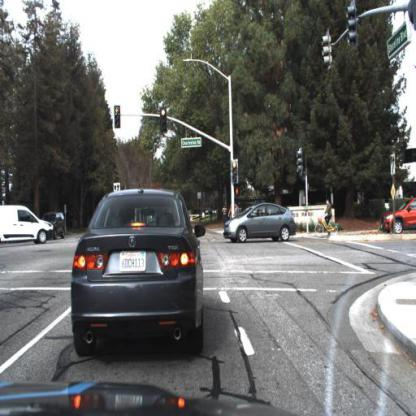biker: (314, 197, 341, 239)
car: (71, 186, 206, 357), (223, 201, 299, 242), (3, 203, 56, 247), (380, 198, 416, 236), (42, 211, 69, 240)
pedestrian: (222, 204, 228, 223), (235, 203, 240, 222)
trafficLight-Red: (232, 159, 239, 182), (161, 108, 167, 133)
trafficLight-RedLeft: (114, 104, 122, 127)
